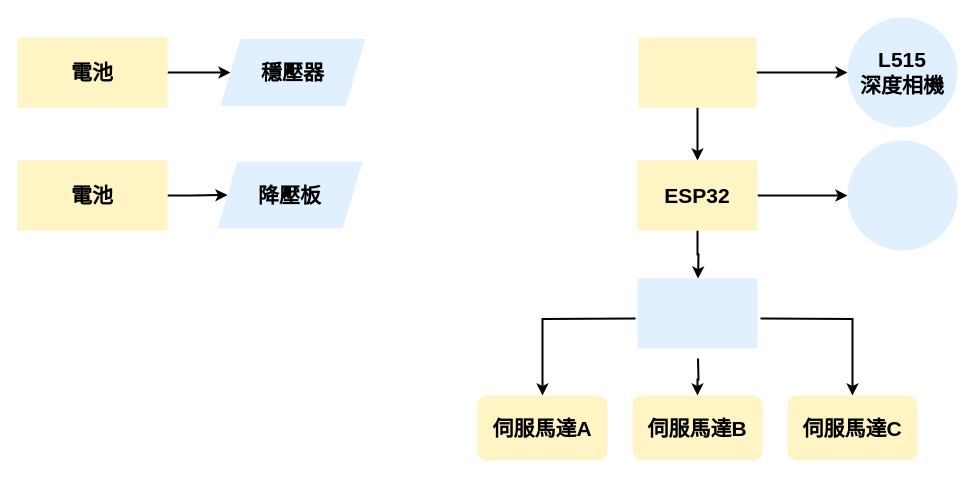
The diagram is 974 pixels wide and 477 high, and some of its shapes have lost their labels. Here are the shapes that lost their labels. From the top down, the centre of each, then its label:
point 697,72: Jetson Orin NX
point 902,195: 旋轉編碼器
point 697,313: PCA9685 馬達控制板
